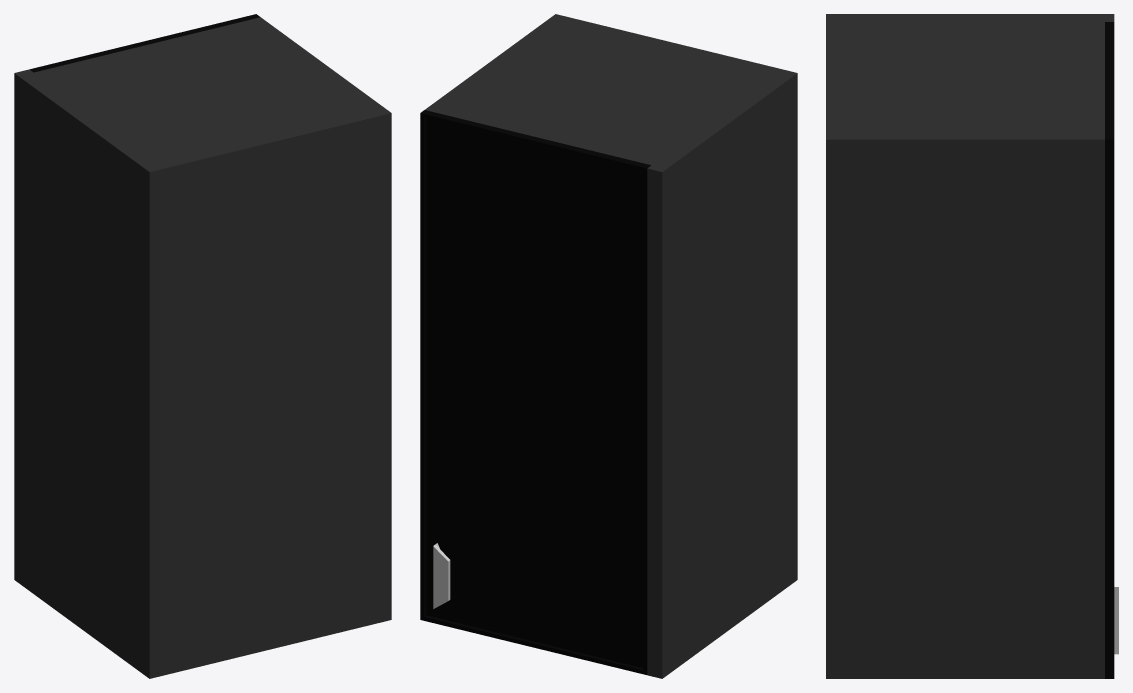
The model's file is black_cupboard_large.gltf.
The picture shows the model from 3 angles, left to right: view 1: azimuth 30°, elevation 25°; view 2: azimuth 150°, elevation 25°; view 3: azimuth 270°, elevation 25°; orthographic projection. The views are drawn at different scales.
Visible parts, largest first — view 1: cube (×4); view 2: cube (×7), poignée; view 3: cube (×4).
Boxes of the visible parts, x1,y1,x2,y2 form: cube (×4): [14, 14, 391, 678]; cube (×7): [420, 14, 797, 678]; poignée: [433, 543, 450, 608]; cube (×4): [826, 14, 1114, 678].
Bounding box in the file's own units: 10 × 20 × 9.84.
